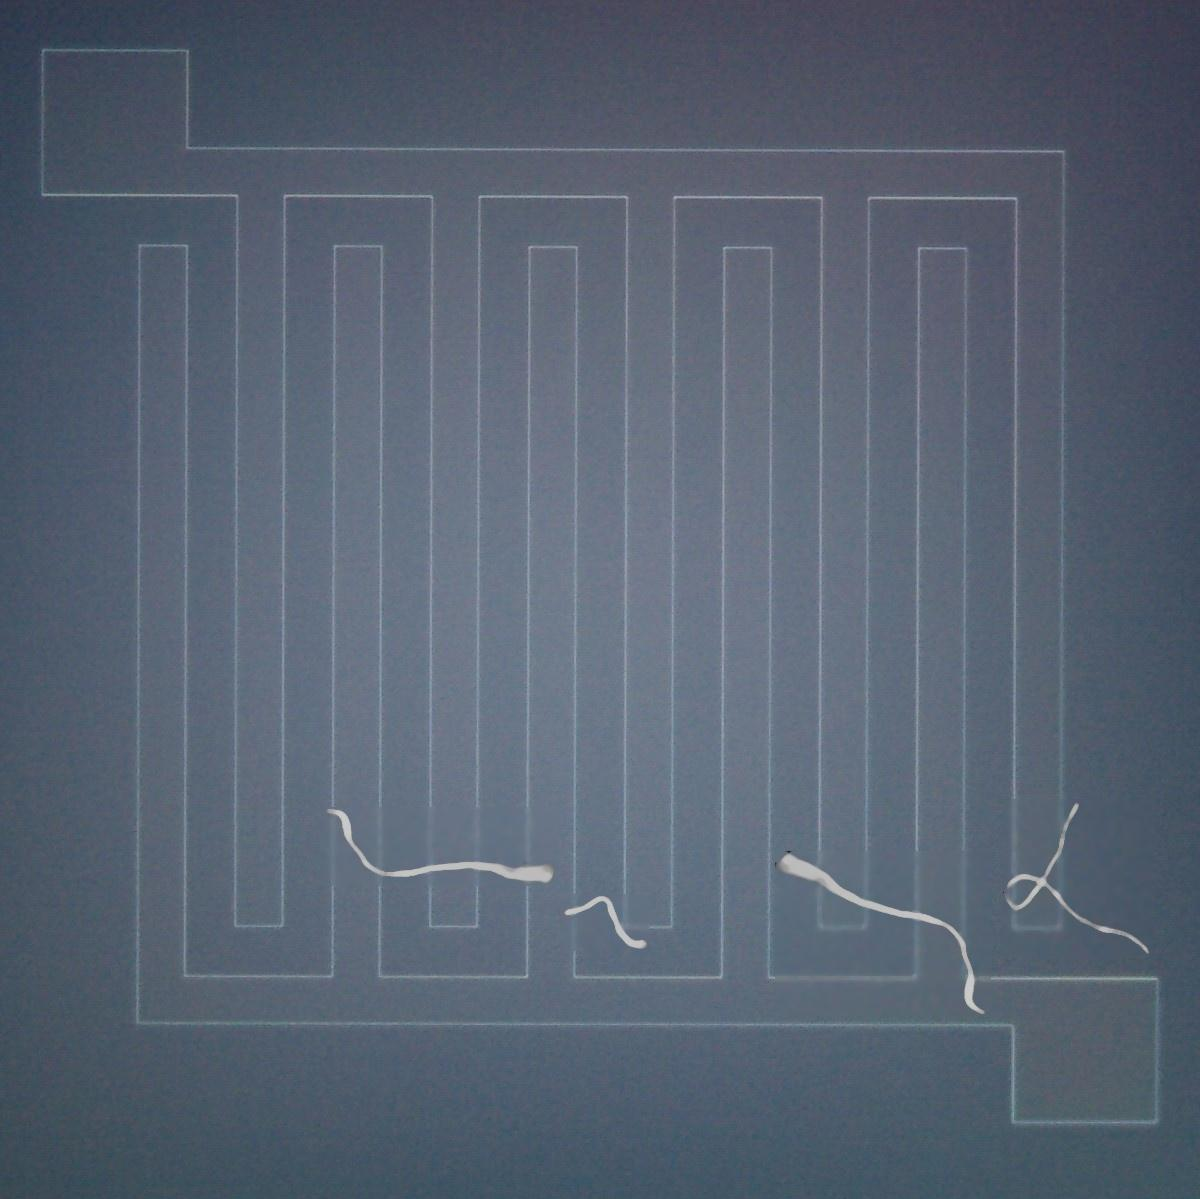foreign: (773, 837, 995, 1029), (992, 789, 1159, 965), (316, 795, 560, 890), (554, 890, 657, 960)
